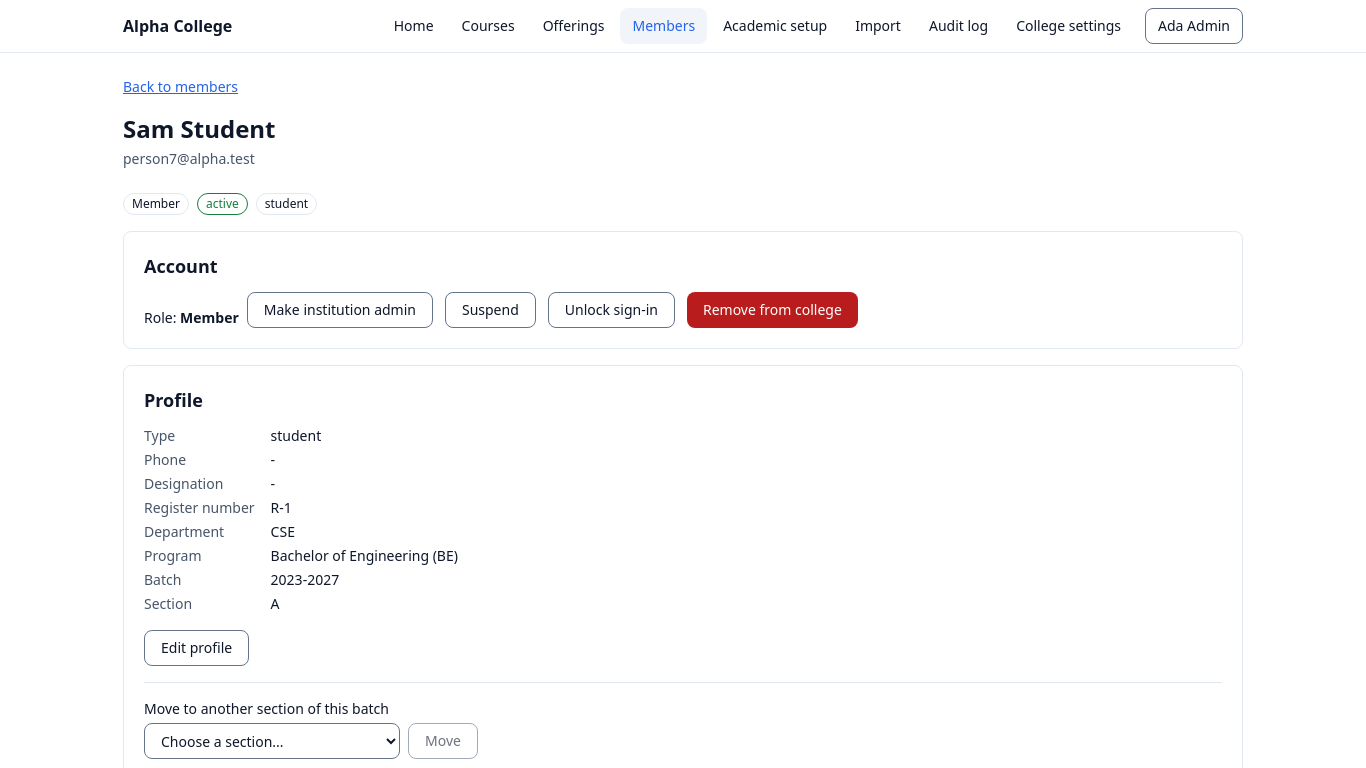
it: member detail › shows the server message when the backend refuses (last admin)
Click the button "Suspend" at (490, 310), box [445,292,536,328]
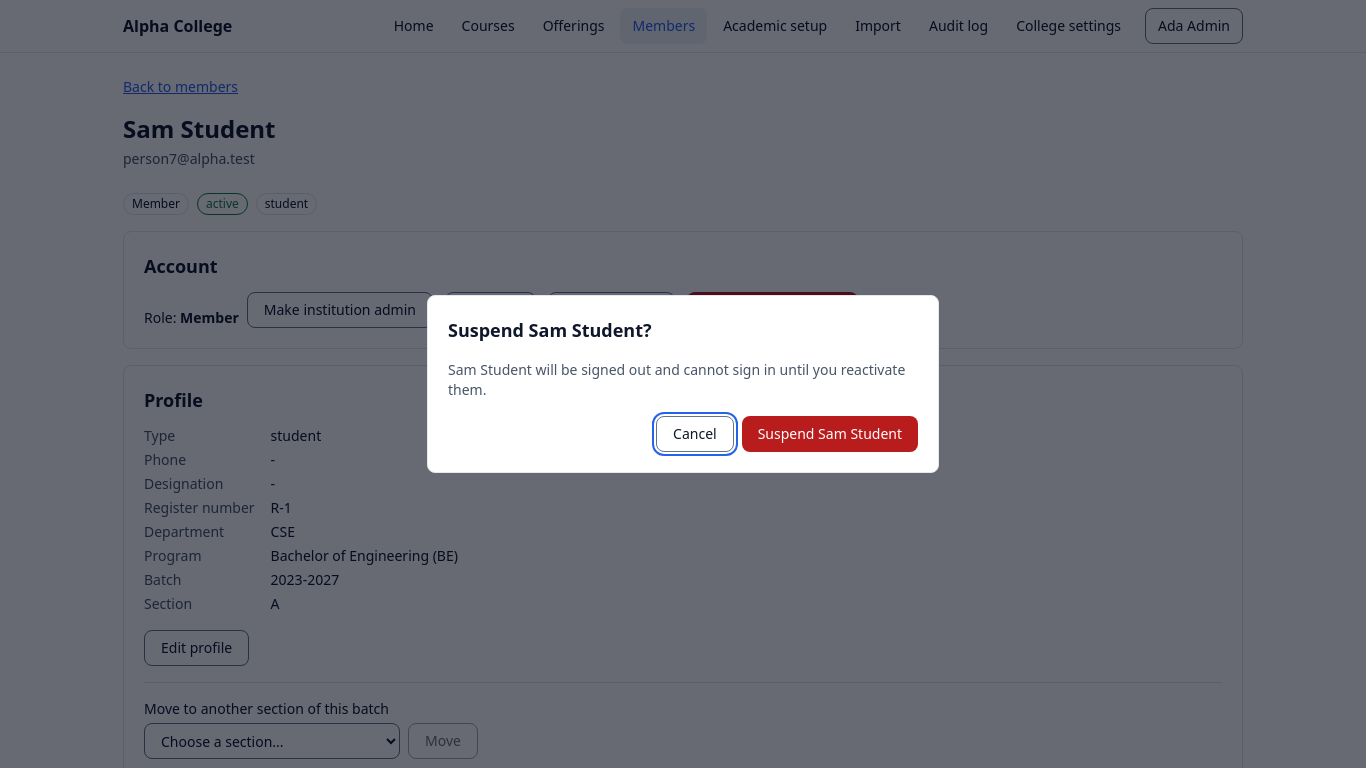
Click the button "Suspend Sam Student" at (830, 434), box [742,416,918,452]
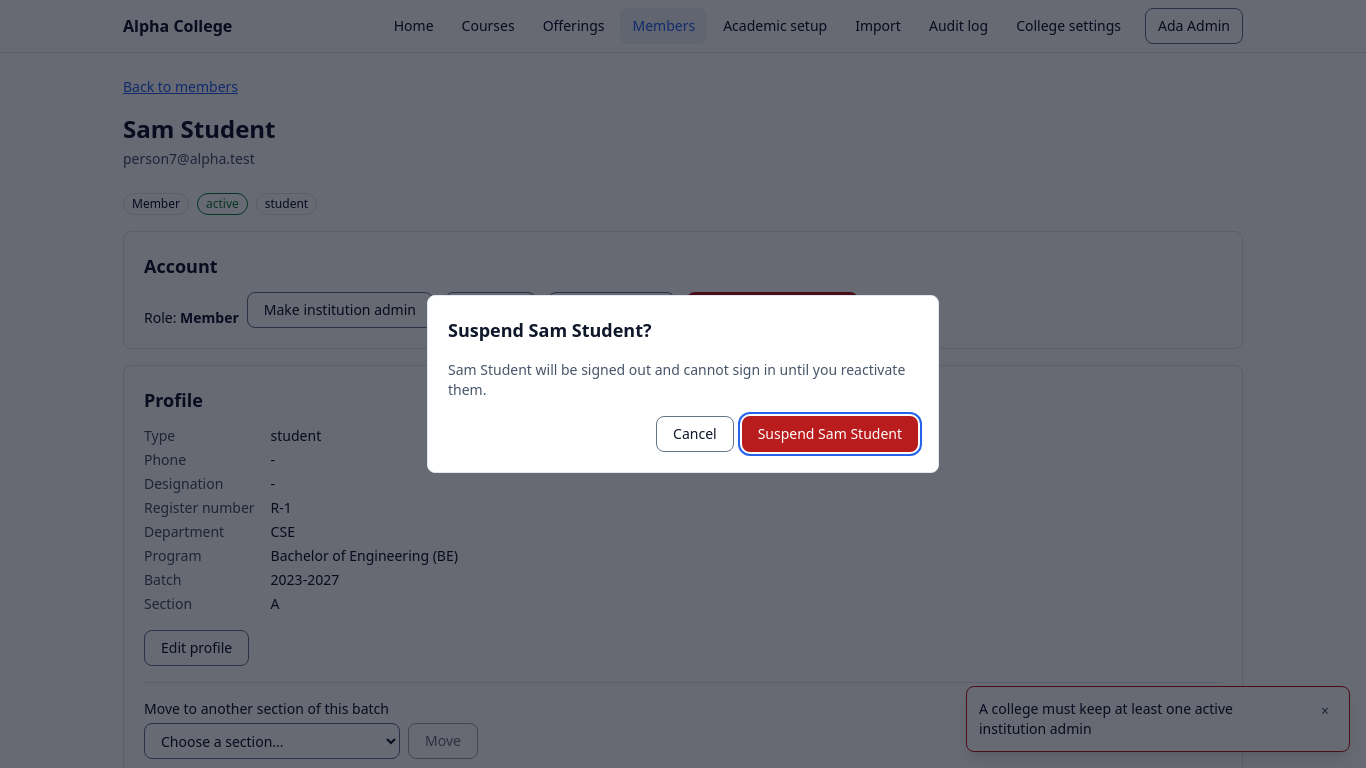
Check: the button "Suspend" is shown, box [445,292,536,328]
Check: the text "A college must keep at least one active institution admin" is shown, box [979,699,1233,738]
